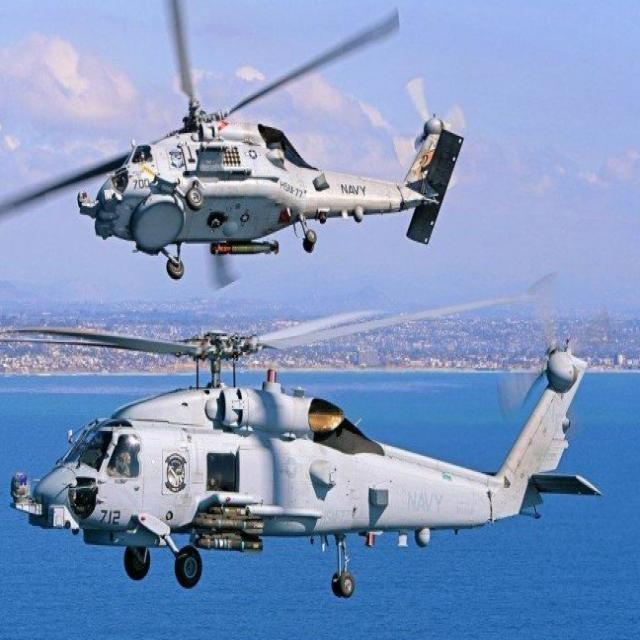helicopter: (1, 196, 607, 544), (1, 1, 429, 292)
